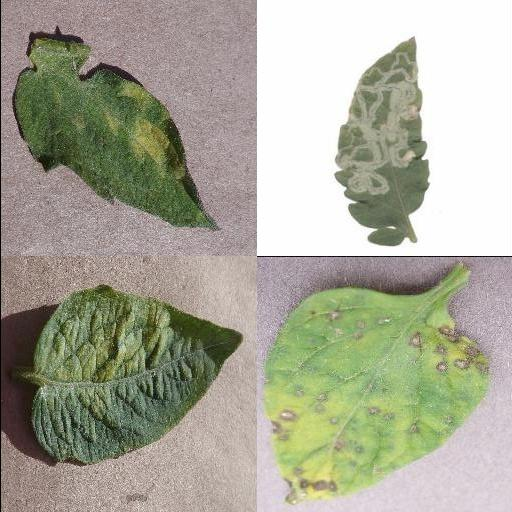Leaf Miner: (332, 37, 430, 247)
Leaf Mold: (11, 40, 221, 230)
Septoria: (262, 287, 490, 503)
Spider Mites: (30, 284, 242, 464)
